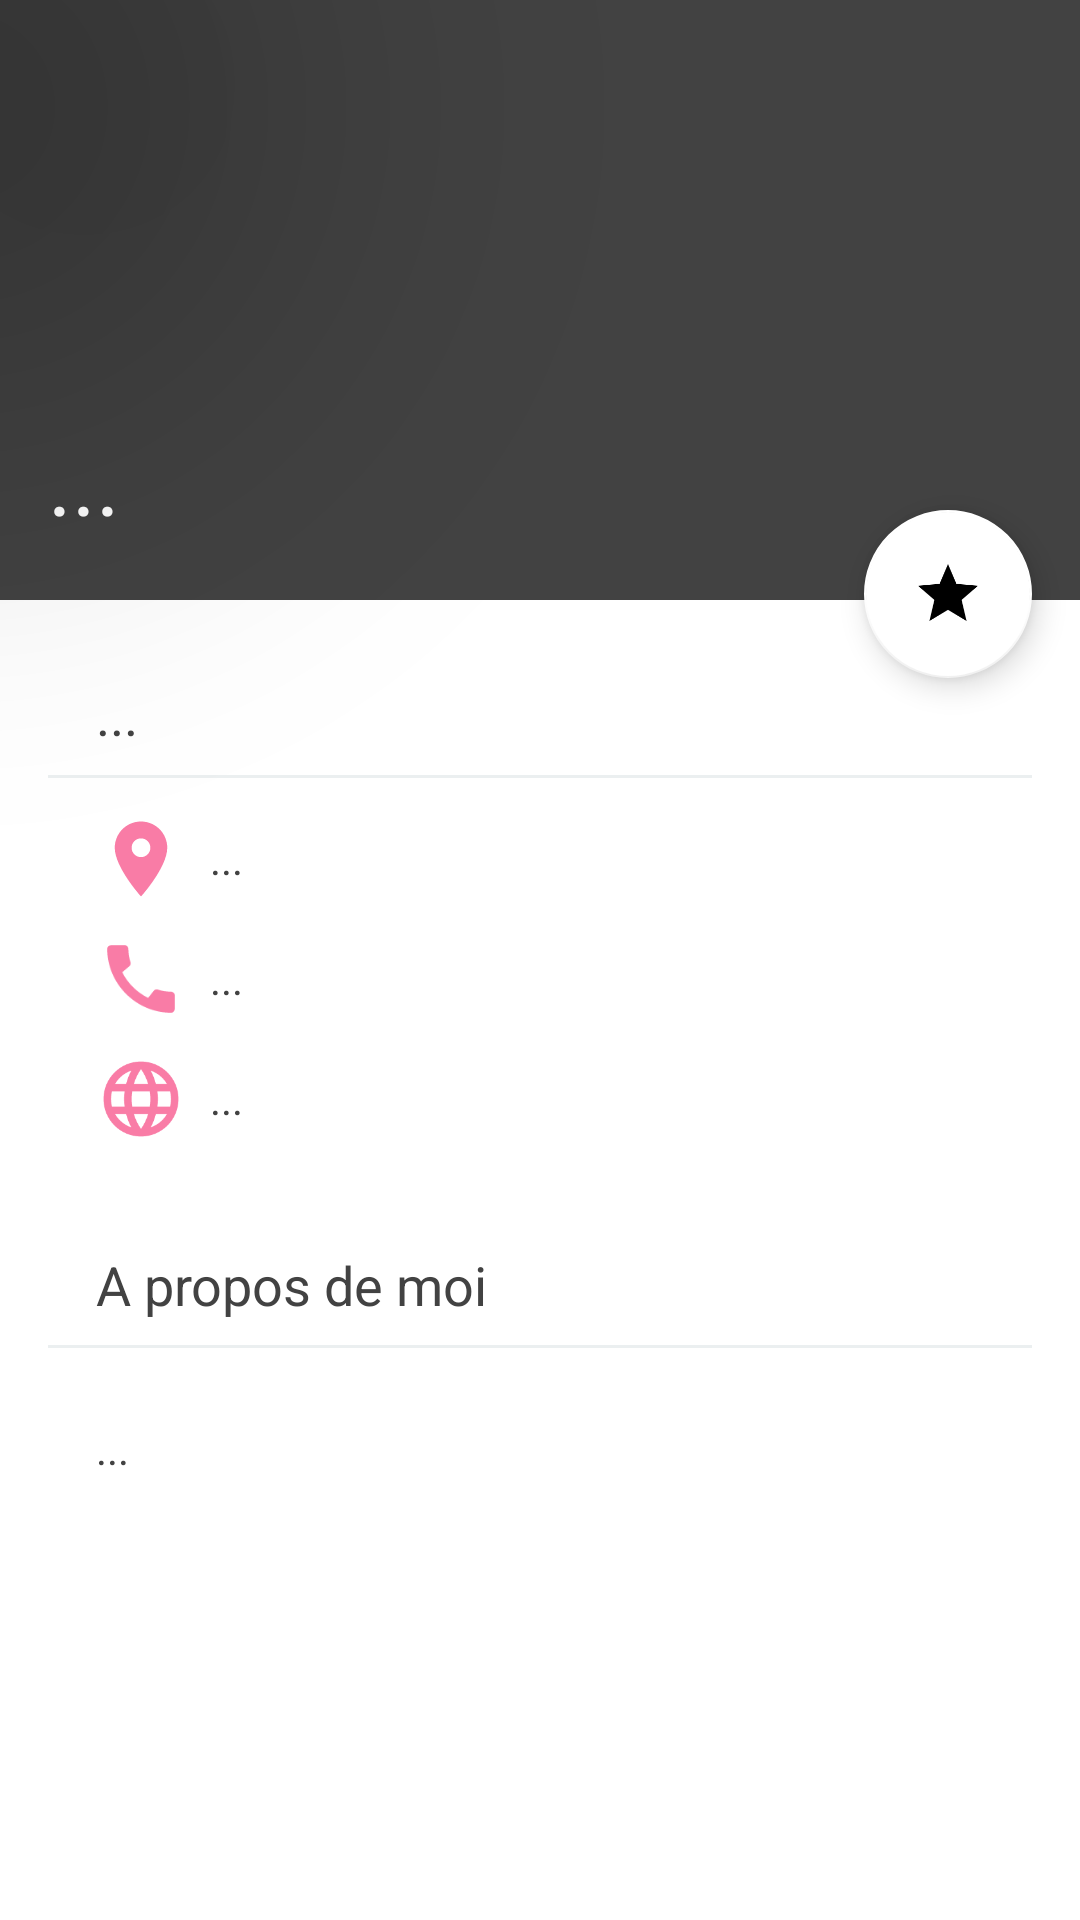

Where to tap for icons on this 1080 × 1920 app screen, as [x,y]:
location: [141,858]
phone: [141,979]
star: [948,594]
website: [141,1099]
